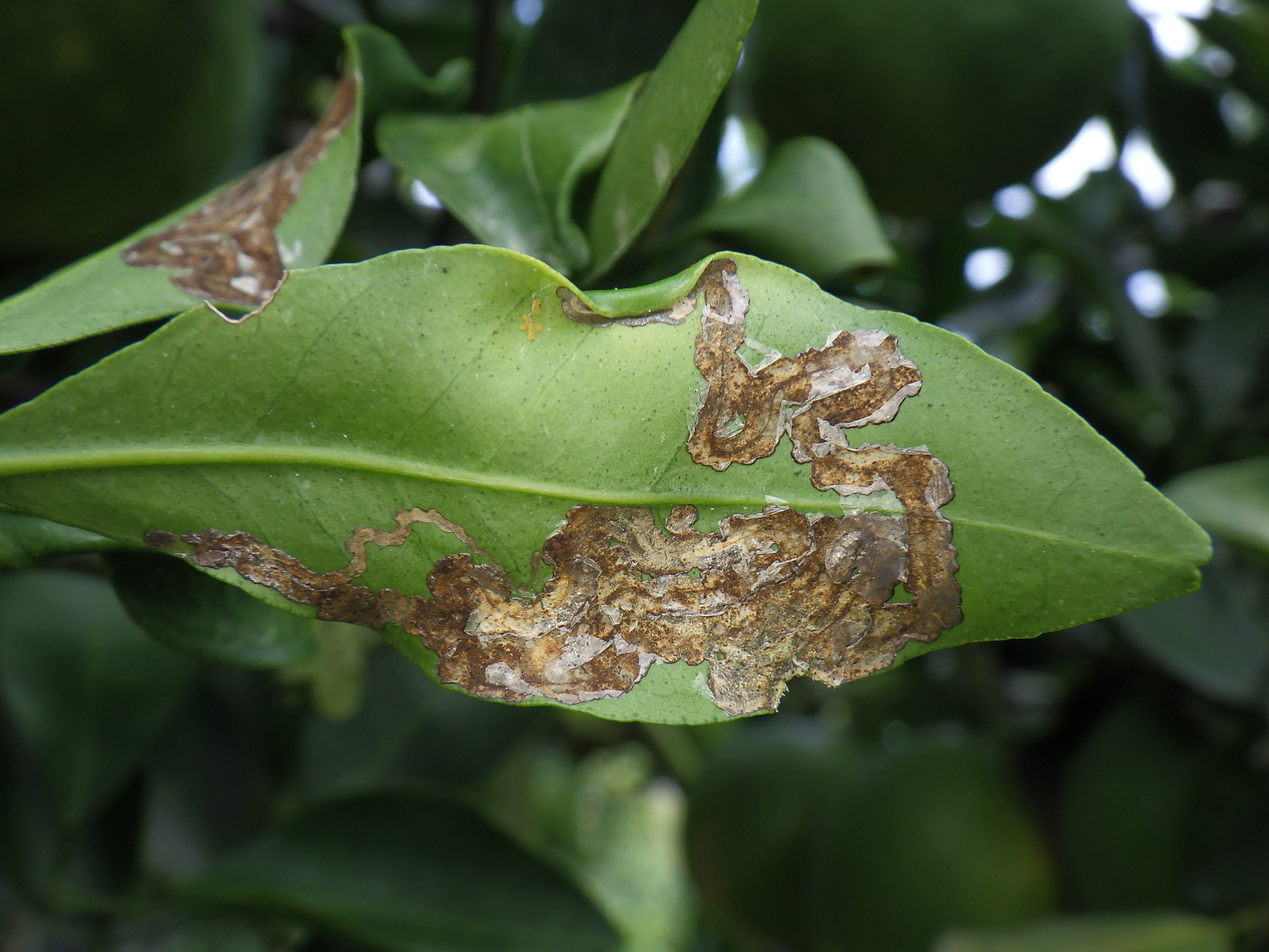Citrus_Leaf_Miner: (182, 260, 962, 715)
